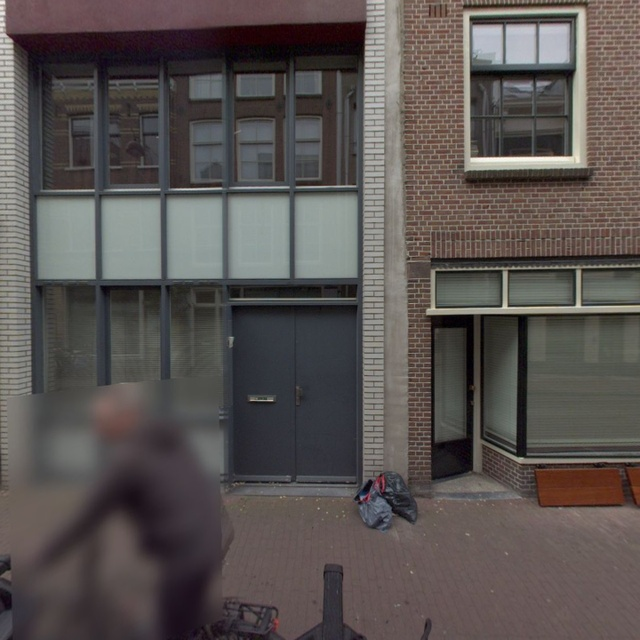Garbage Bags: (356, 473, 419, 532)
